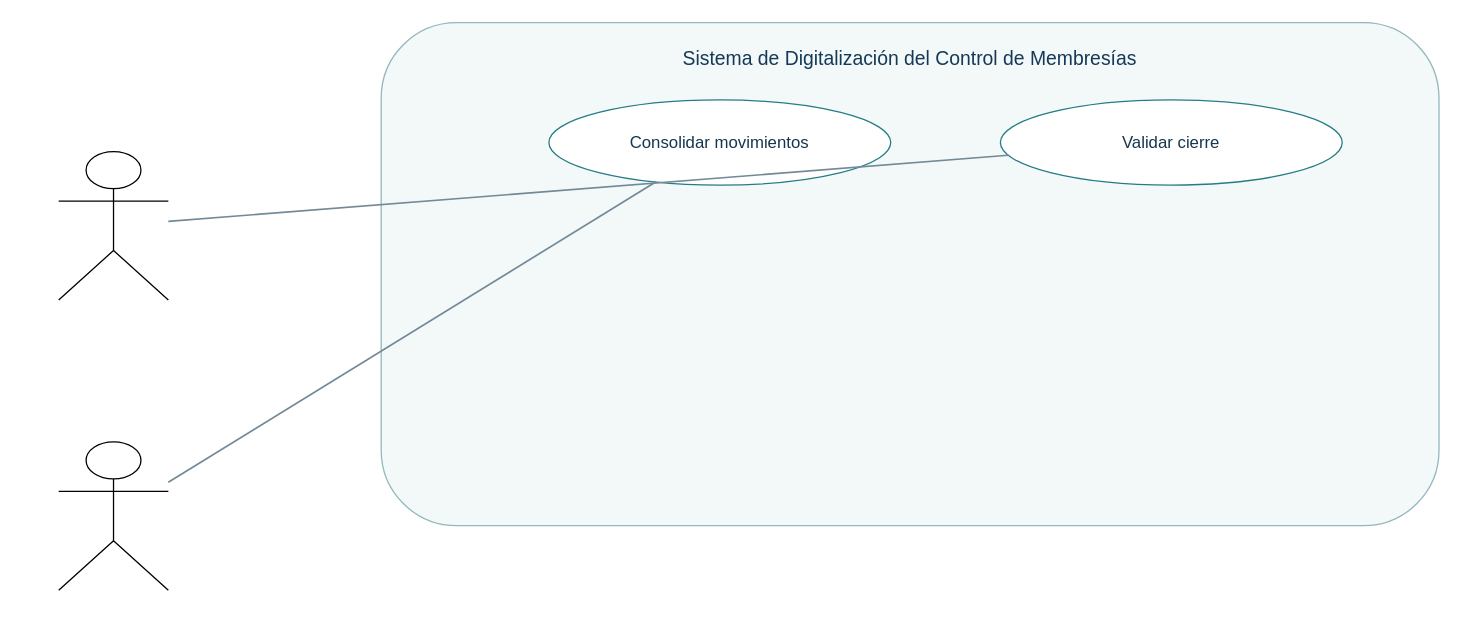
The diagram is 1462 pixels wide and 640 high, and some of its shapes have lost their labels. Here are the shapes that lost their labels. From the top down, the centre of each, then its label:
At (x=112, y=225): "Administrador / propietario".
At (x=112, y=515): "Recepcionista".
